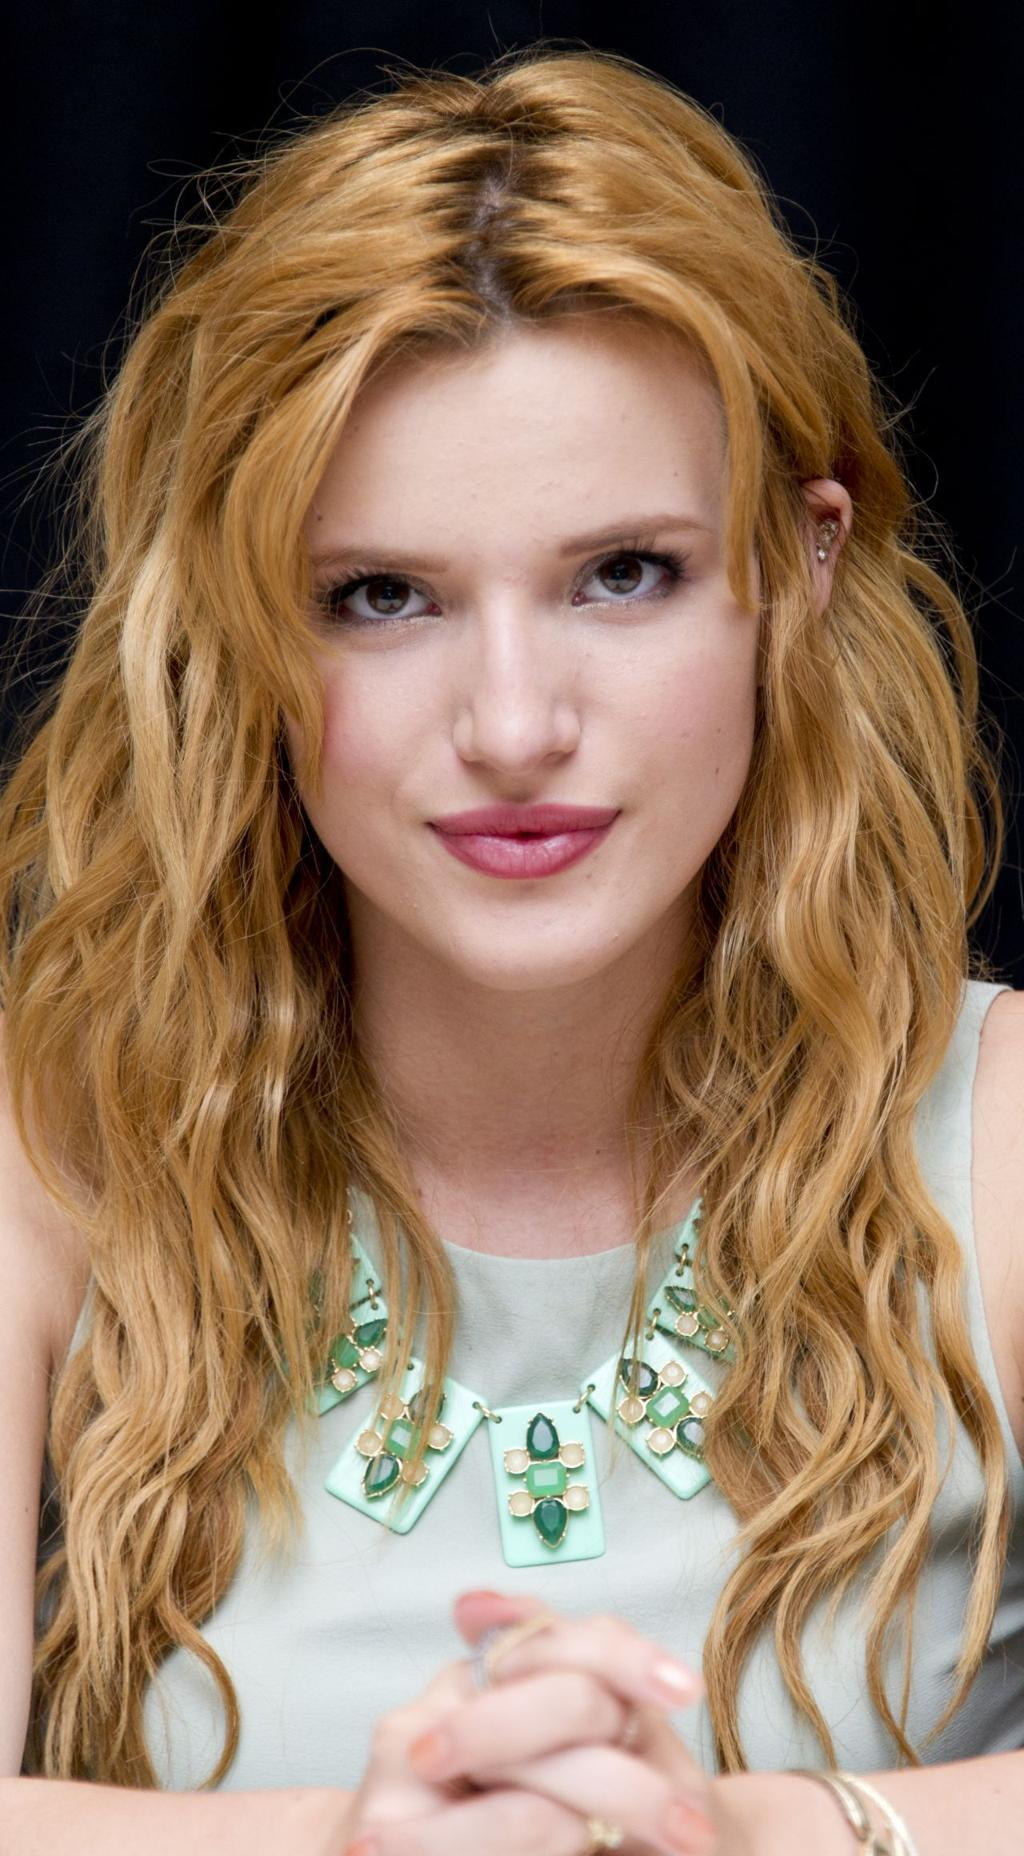face: (284, 339, 763, 993)
